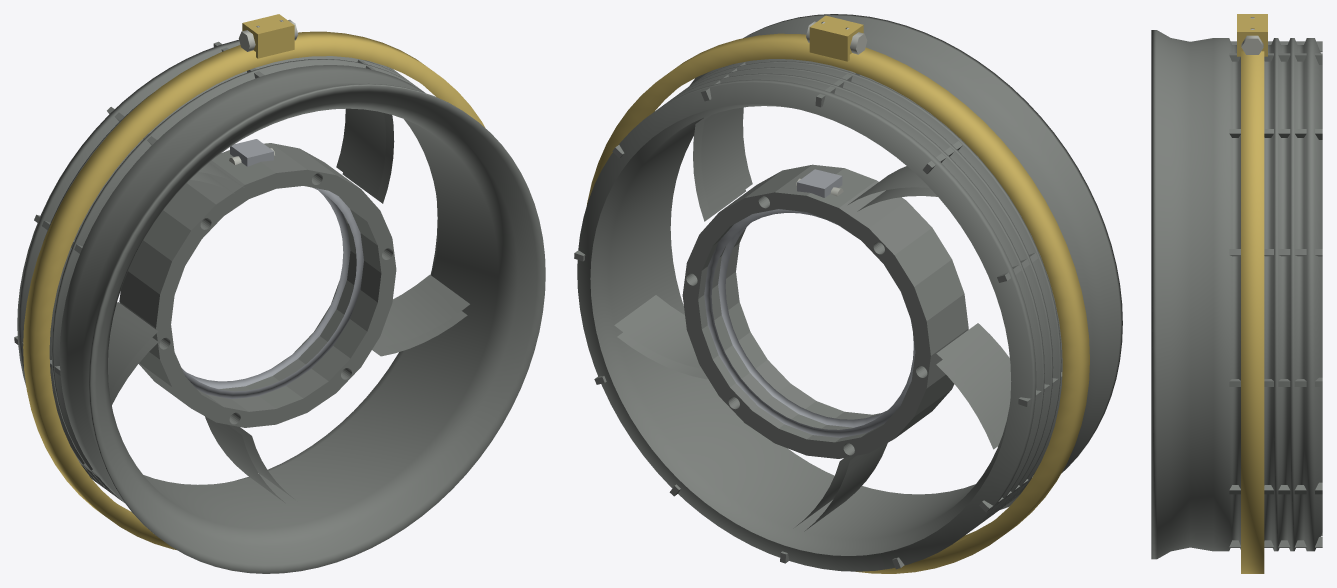
Rendered from fan-housing.glb.
The picture shows the model from 3 angles, left to right: view 1: azimuth 30°, elevation 25°; view 2: azimuth 150°, elevation 25°; view 3: azimuth 270°, elevation 25°; orthographic projection. The views are drawn at different scales.
Visible parts, largest first — view 1: fan-housing:magCast, fan-housing:yellowZinc, fan-housing:steel; view 2: fan-housing:magCast, fan-housing:yellowZinc, fan-housing:steel; view 3: fan-housing:magCast, fan-housing:yellowZinc, fan-housing:zincPlate.
Boxes of the visible parts, bbox=[...] form: fan-housing:magCast: bbox=[14, 40, 545, 573]; fan-housing:yellowZinc: bbox=[23, 14, 485, 549]; fan-housing:steel: bbox=[181, 139, 363, 398]; fan-housing:magCast: bbox=[574, 14, 1122, 571]; fan-housing:yellowZinc: bbox=[586, 15, 1089, 573]; fan-housing:steel: bbox=[704, 169, 915, 437]; fan-housing:magCast: bbox=[1151, 30, 1322, 559]; fan-housing:yellowZinc: bbox=[1237, 14, 1267, 573]; fan-housing:zincPlate: bbox=[1241, 17, 1263, 54].
Size of the model in its own units: 287 by 298 by 88.
